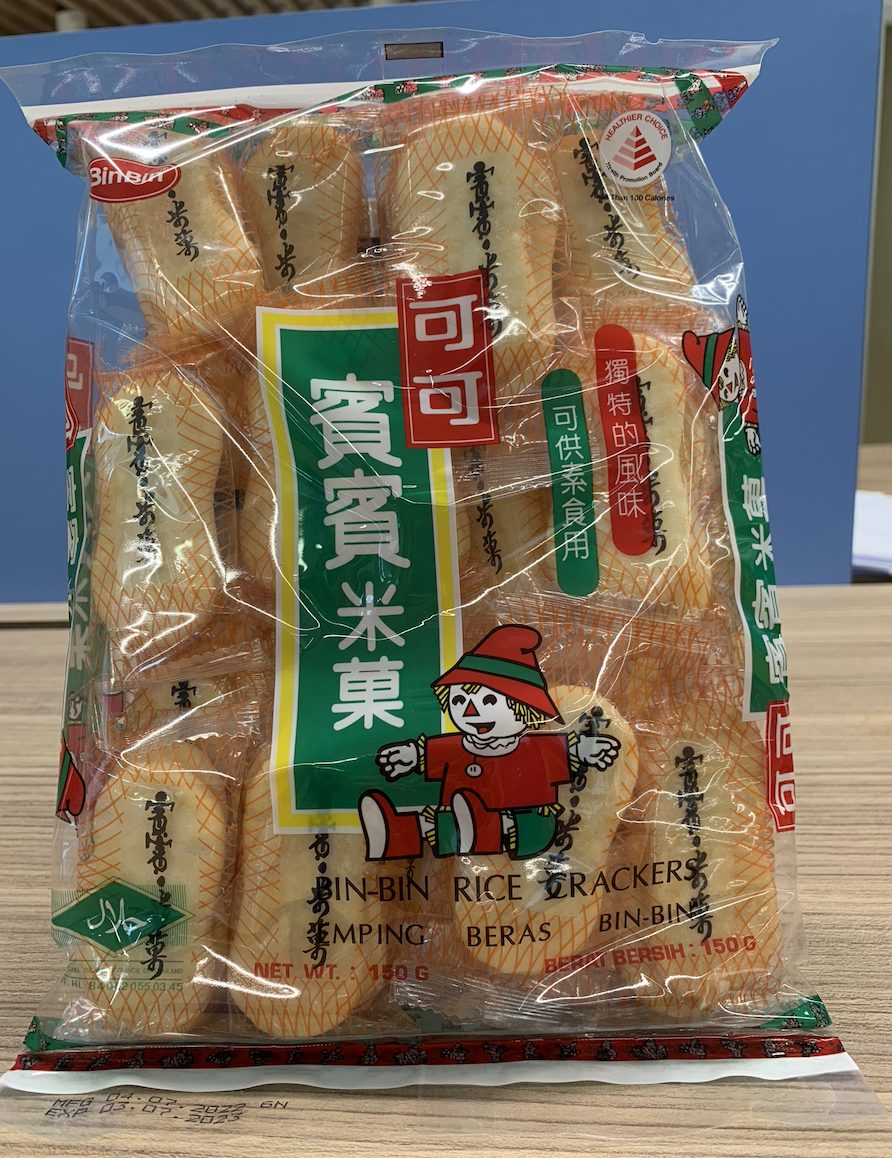crackers_100g-199g: (59, 87, 790, 1038)
